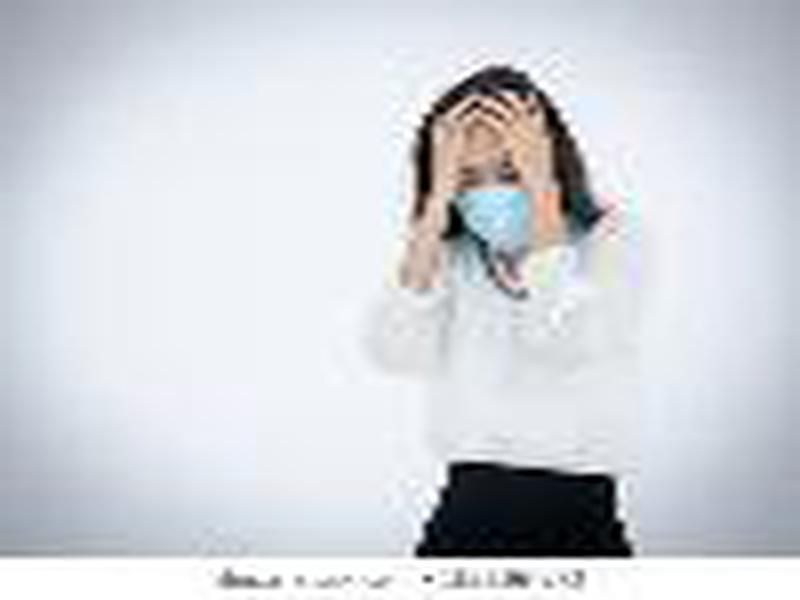with_mask: (448, 119, 545, 257)
